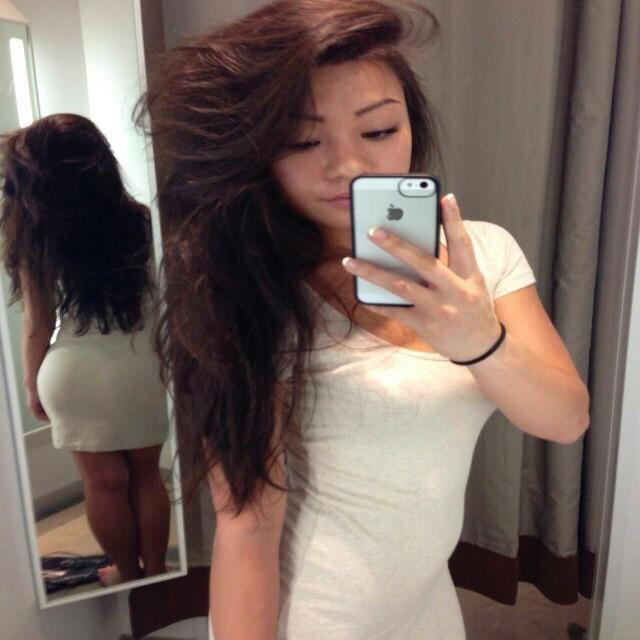phone: (350, 173, 440, 306)
